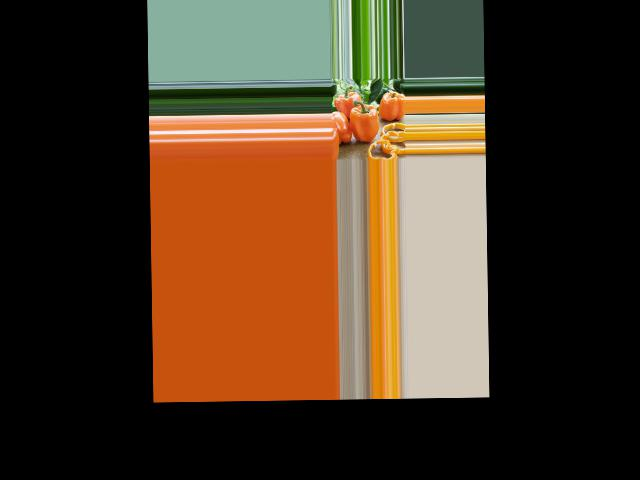bell_pepper: (331, 110, 351, 145)
